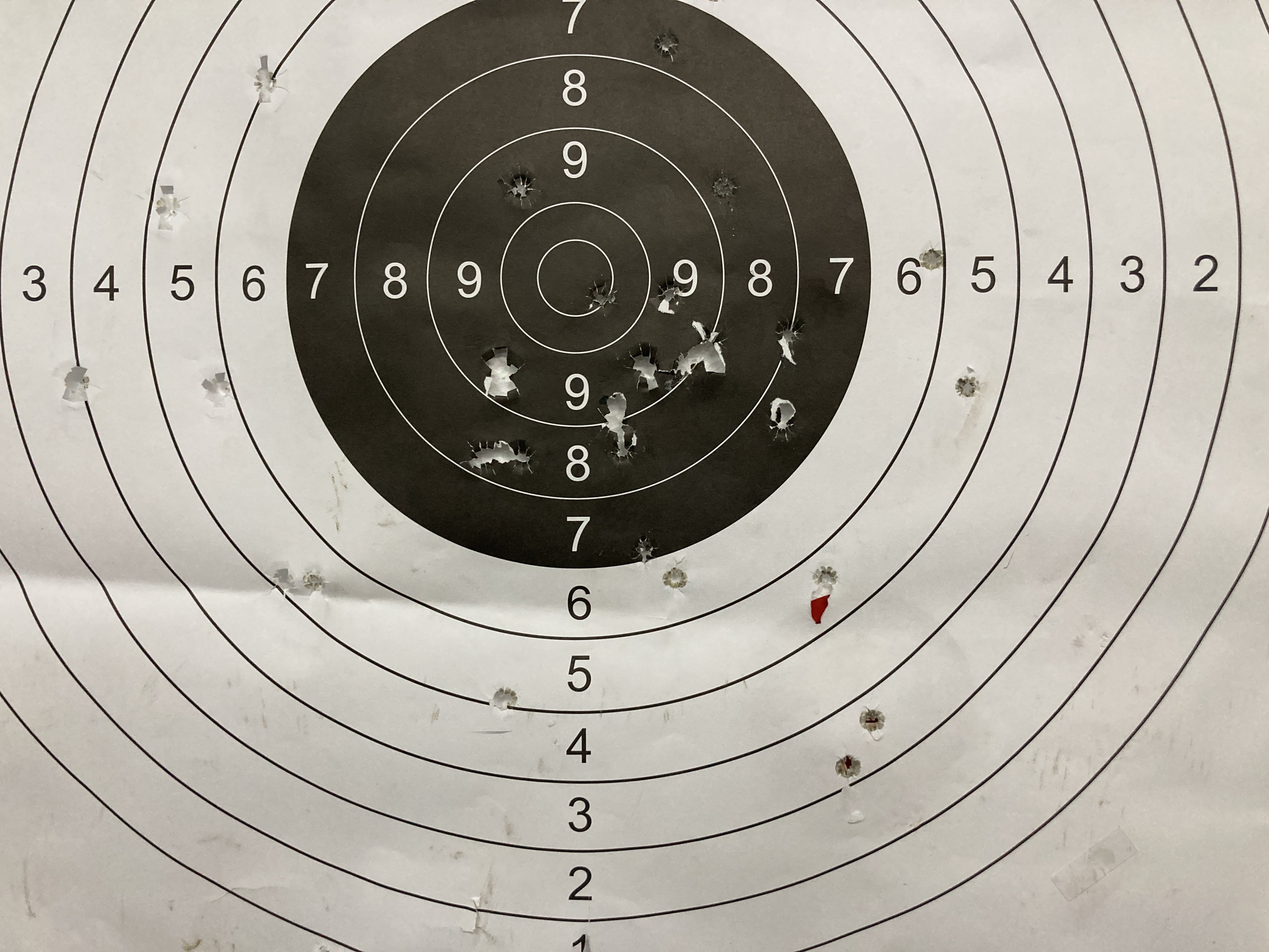hole: (480, 340, 536, 401), (791, 563, 841, 631), (682, 334, 735, 398), (235, 57, 298, 109), (612, 333, 670, 389), (766, 385, 808, 443), (146, 190, 193, 241), (294, 556, 337, 609), (258, 556, 301, 608), (461, 432, 500, 488), (649, 563, 705, 601), (772, 317, 816, 364), (710, 159, 749, 211), (827, 746, 873, 789), (499, 162, 539, 211), (854, 696, 893, 746), (589, 385, 632, 427), (581, 278, 625, 319), (651, 278, 691, 320), (500, 444, 550, 477), (200, 373, 244, 410), (649, 23, 687, 65), (59, 370, 96, 412), (948, 370, 991, 404), (485, 679, 514, 727), (604, 432, 648, 463), (921, 241, 954, 278), (629, 538, 662, 564)
